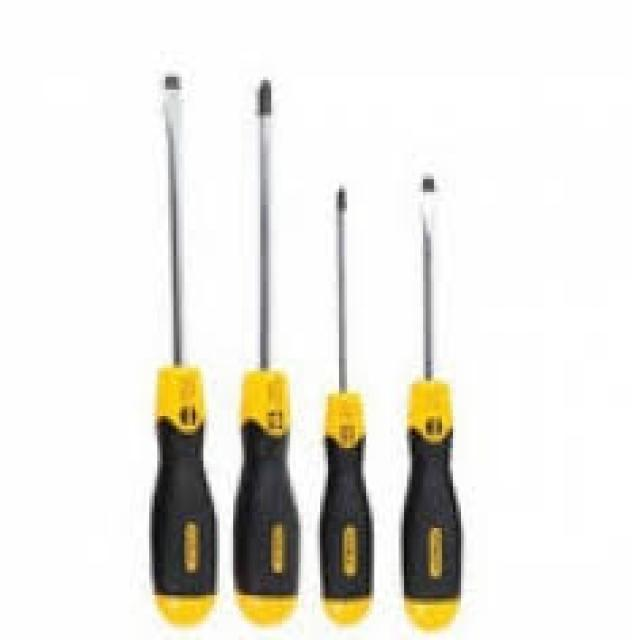screwdriver: (134, 56, 221, 626), (232, 75, 305, 629), (396, 171, 466, 632), (306, 181, 374, 629)
